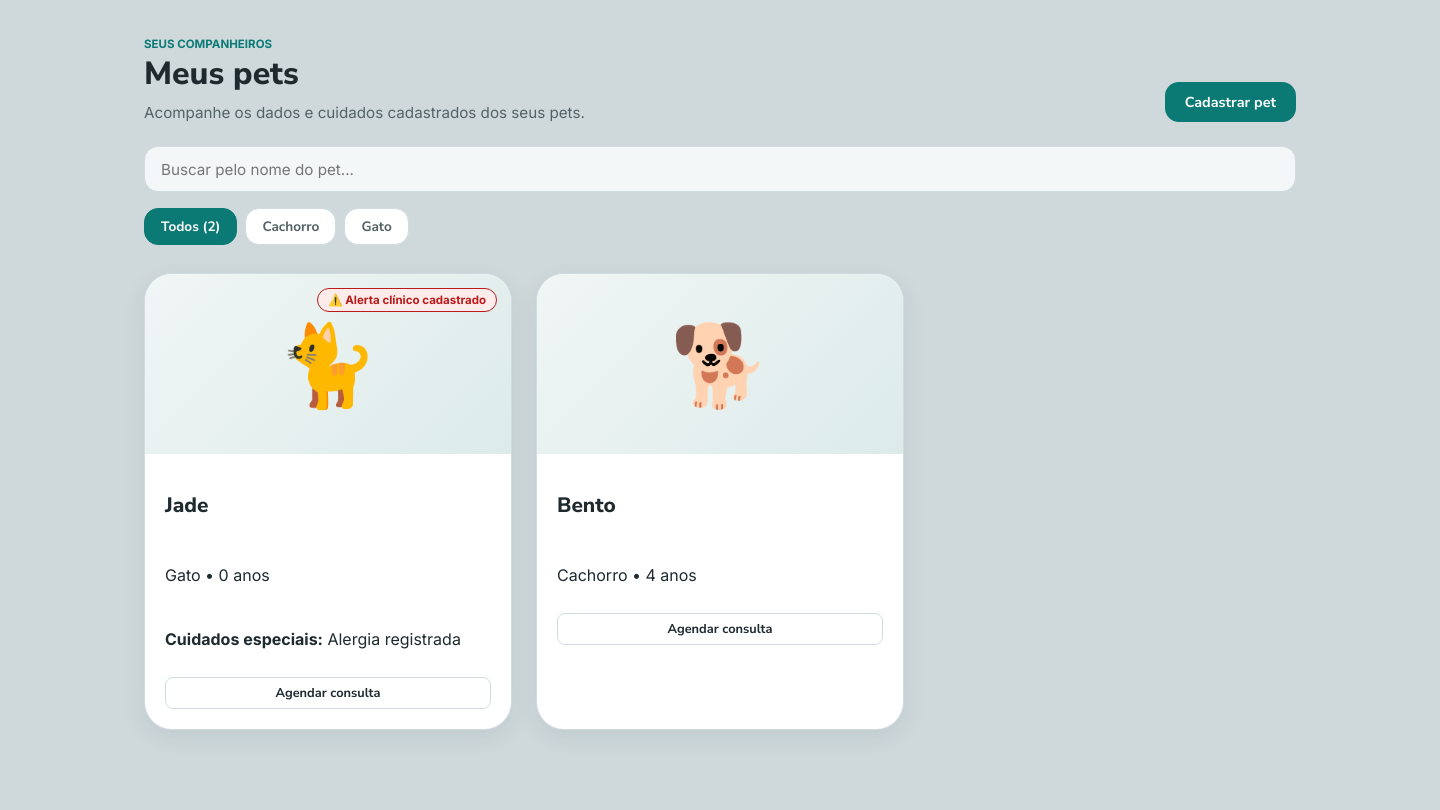
Scenario: busca e filtro de especie combinam sem perder os dados dos cards
Click the button "Gato": (377, 226) left=344, top=208, right=409, bottom=245
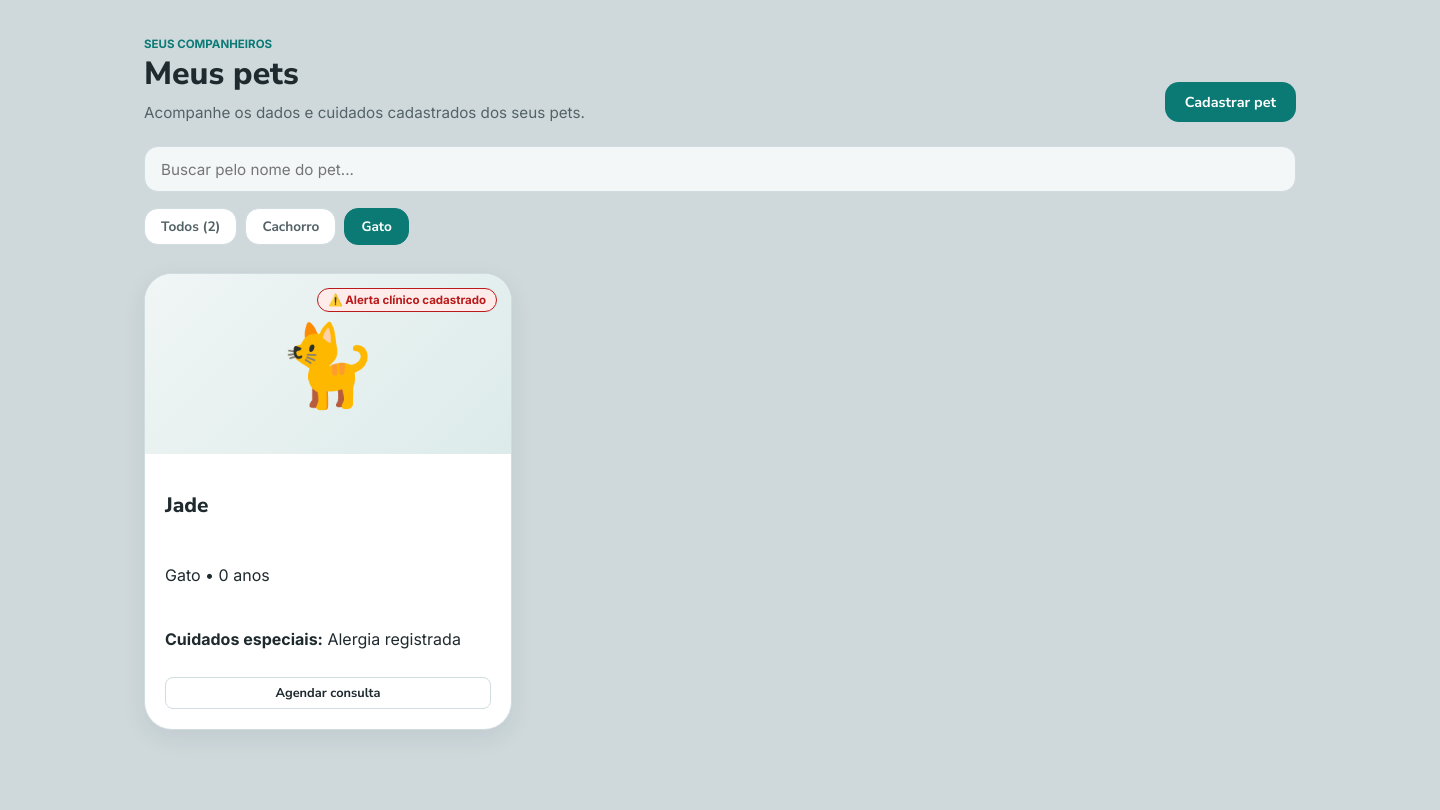
Expected: the text "0 anos" is shown, left=201, top=564, right=270, bottom=584
In the field with placeholder "Buscar pelo nome do pet...": (720, 169) left=159, top=147, right=1281, bottom=191, type "Bento"
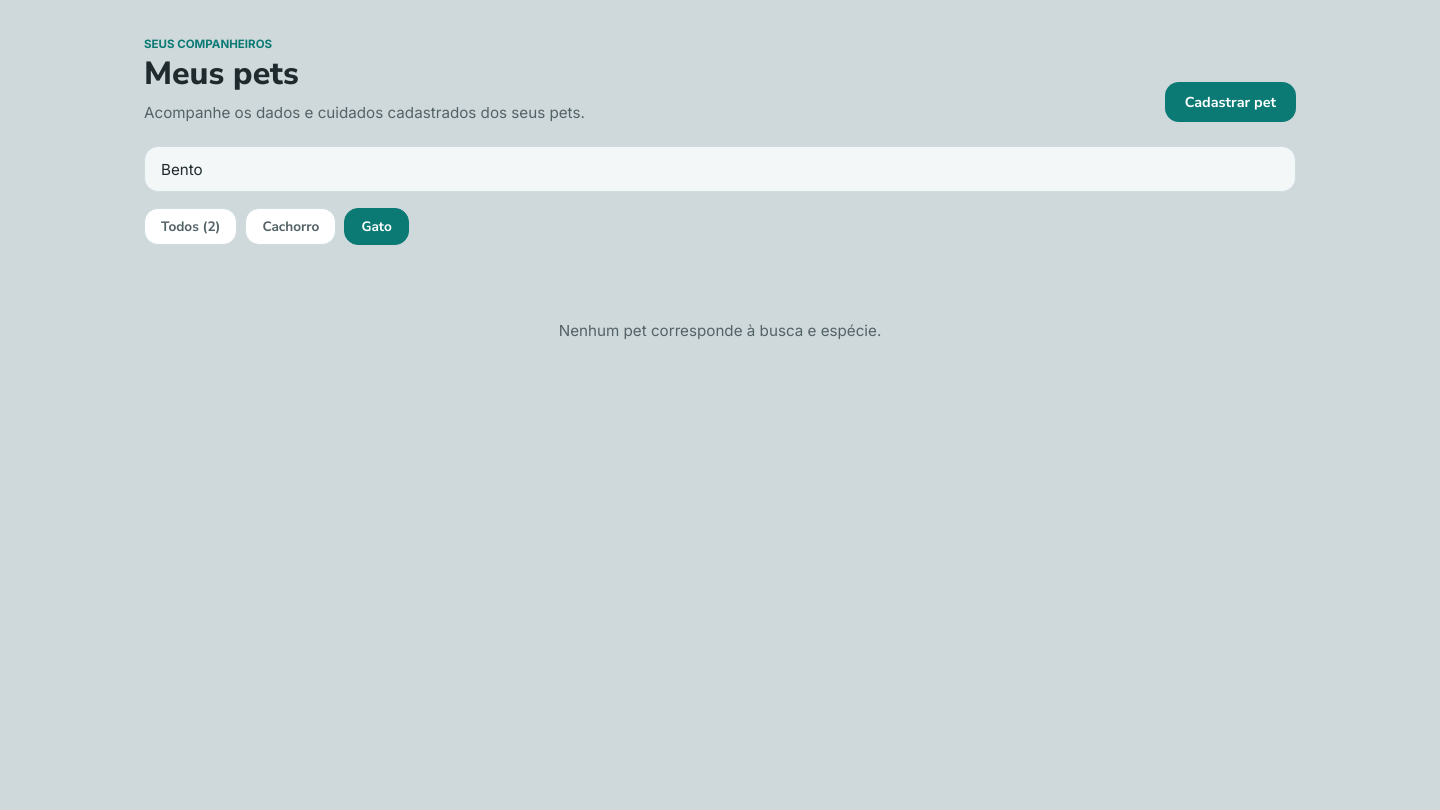
Now the text "Nenhum pet corresponde" is shown, box left=559, top=321, right=881, bottom=340
Click the button "Todos (2)": (191, 226) left=144, top=208, right=237, bottom=245
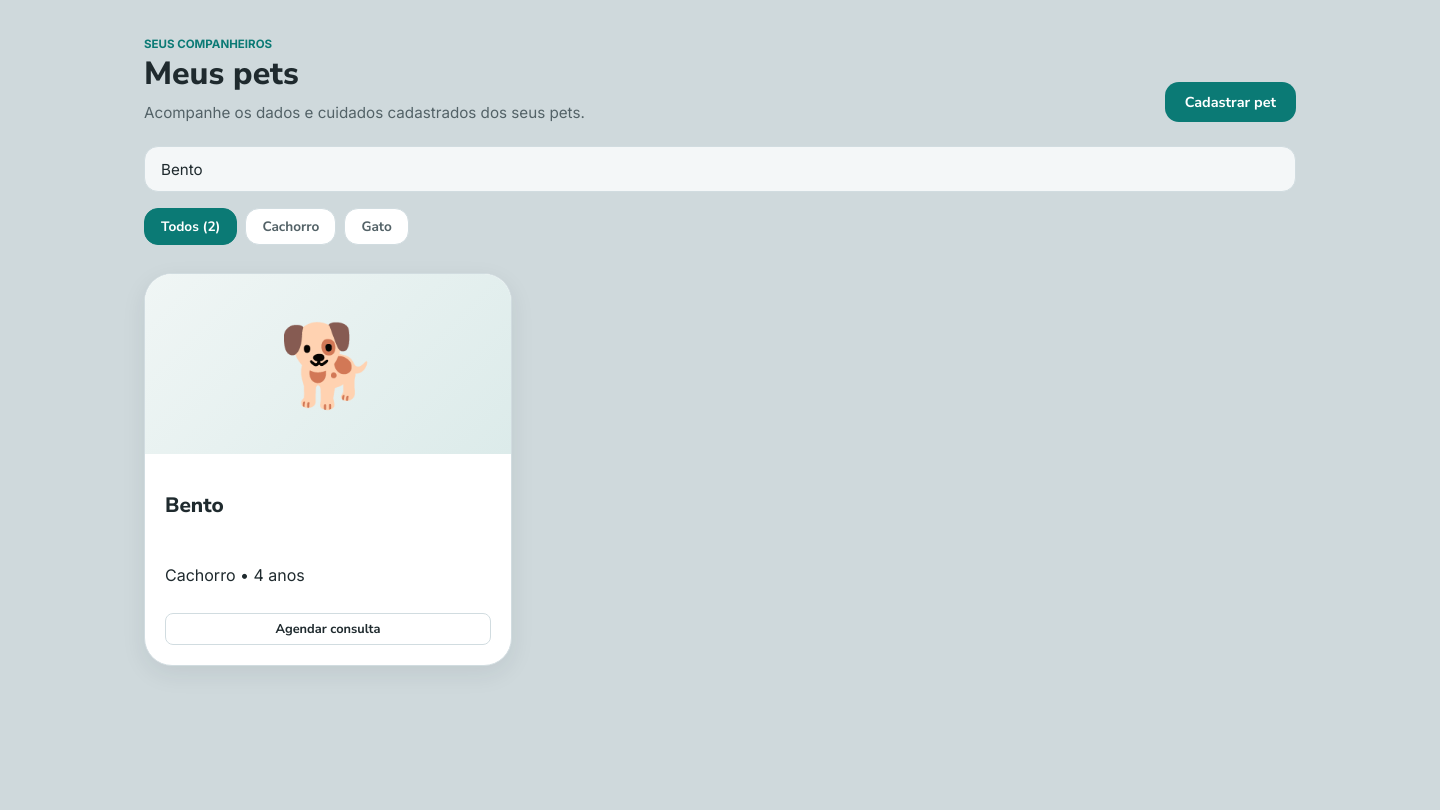
Now the element showing "🐕 Bento Cachorro • 4 anos Agendar consulta" is shown, box left=144, top=273, right=512, bottom=666
